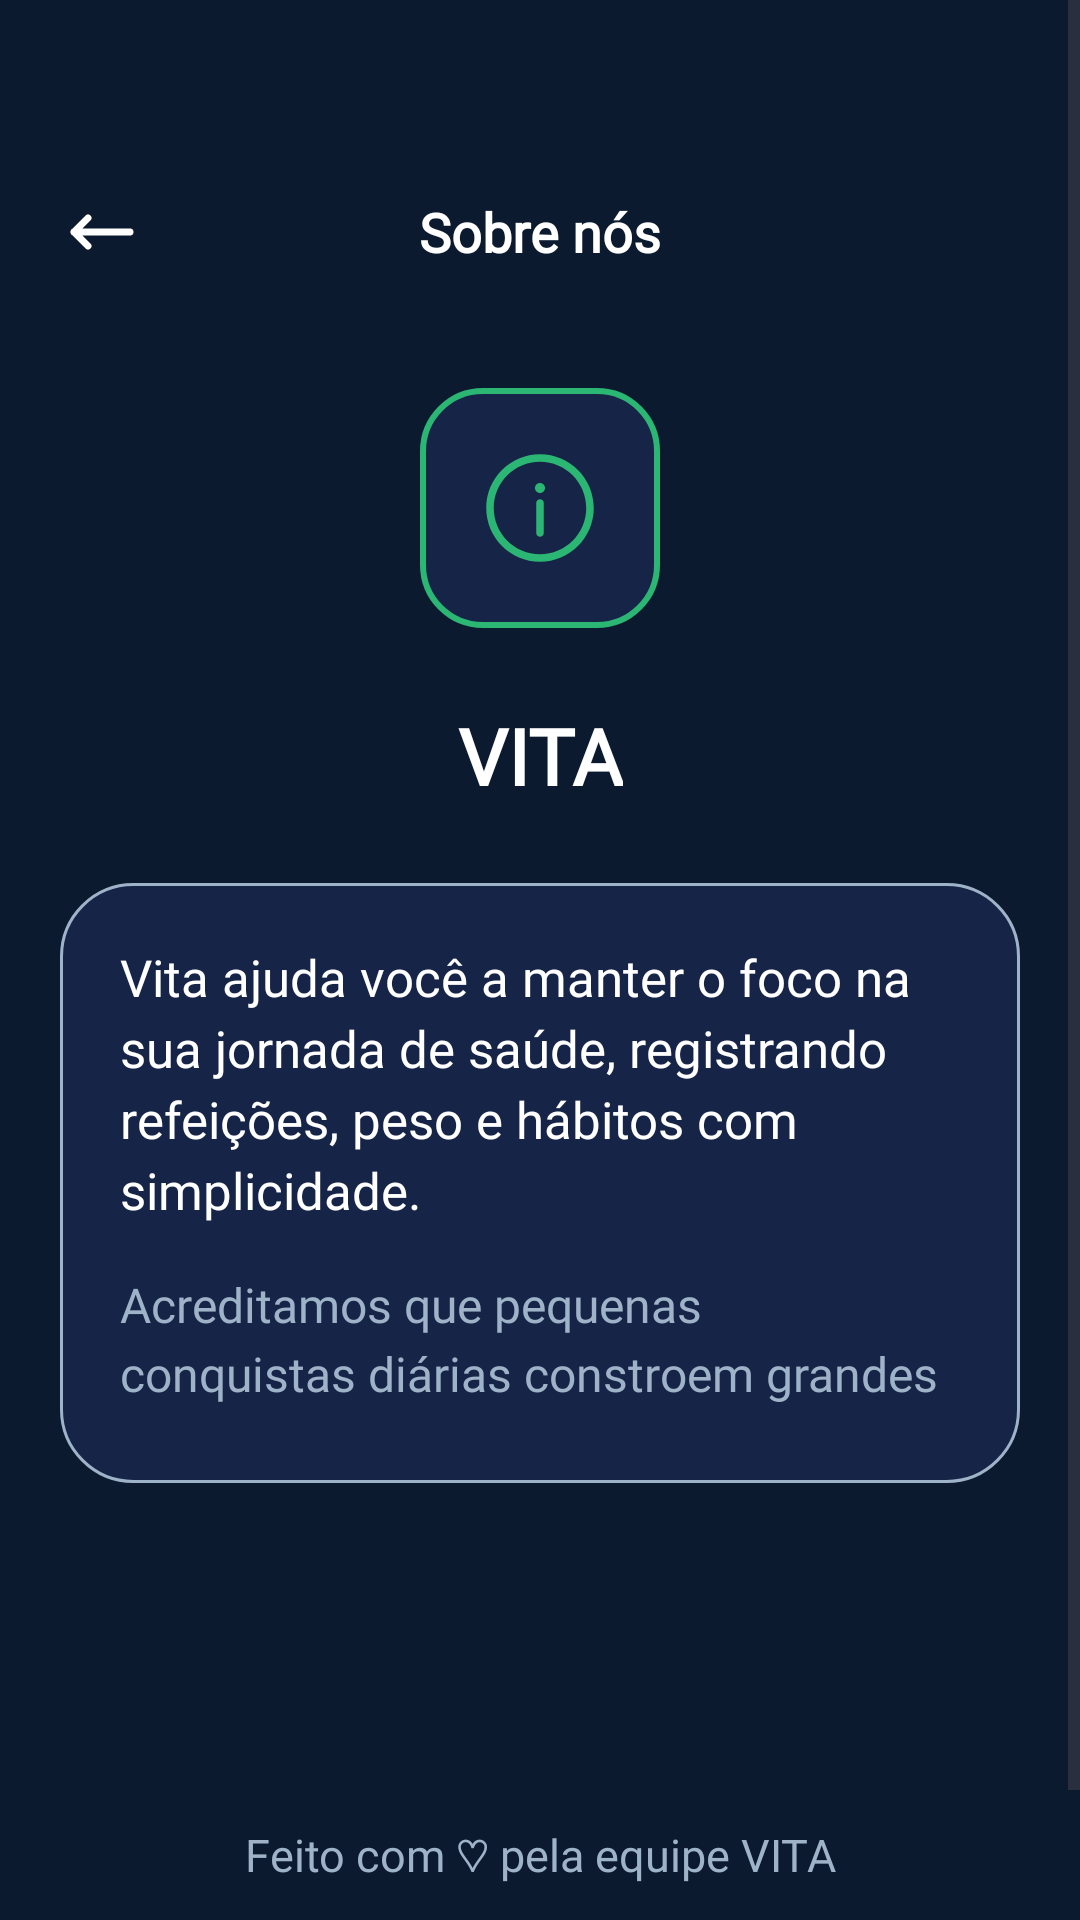

Icon click points for this 1080px×1920px phone screenshot, format point (x, y):
info: point (540, 508)
Voltar: point (102, 232)
